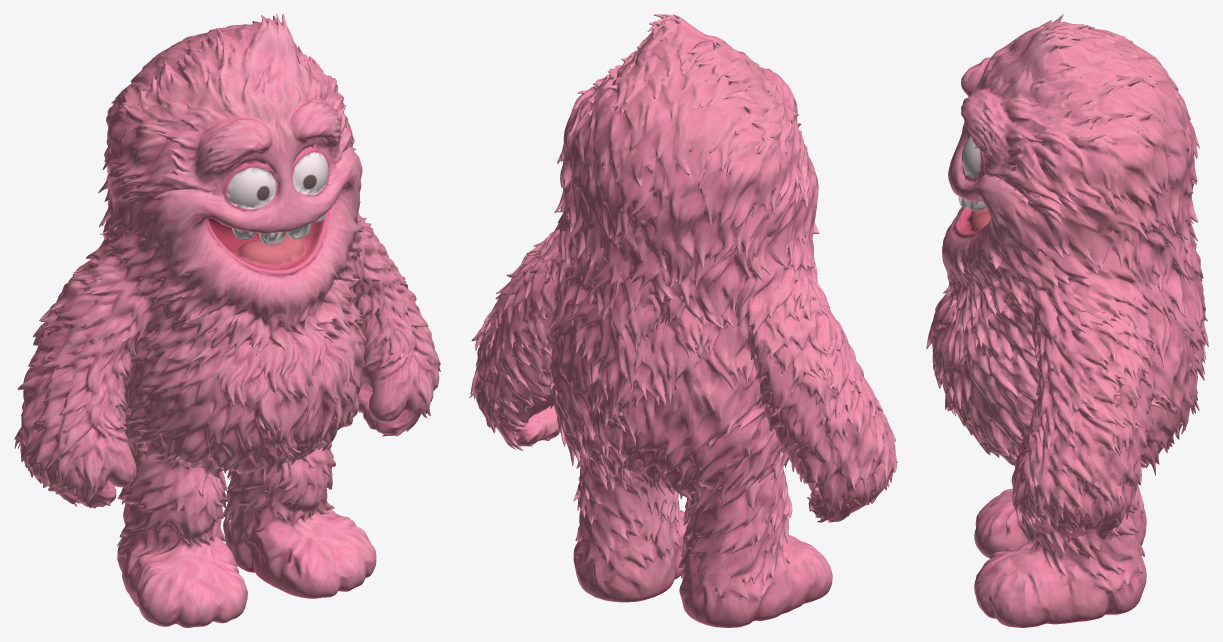
Rendered from fuzzy.glb.
3 views of the same model, side by side, from view 1: azimuth 30°, elevation 25°; view 2: azimuth 150°, elevation 25°; view 3: azimuth 270°, elevation 25° (orthographic).
Parts seen in each view (by area): view 1: fuzzy; view 2: fuzzy; view 3: fuzzy.
Boxes of the visible parts, bbox=[...] form: fuzzy: bbox=[14, 14, 440, 627]; fuzzy: bbox=[469, 14, 897, 627]; fuzzy: bbox=[926, 14, 1208, 627].
Size of the model in its own units: 1.52 by 2 by 0.9082.
Materials: 1 (1 with a texture image).
